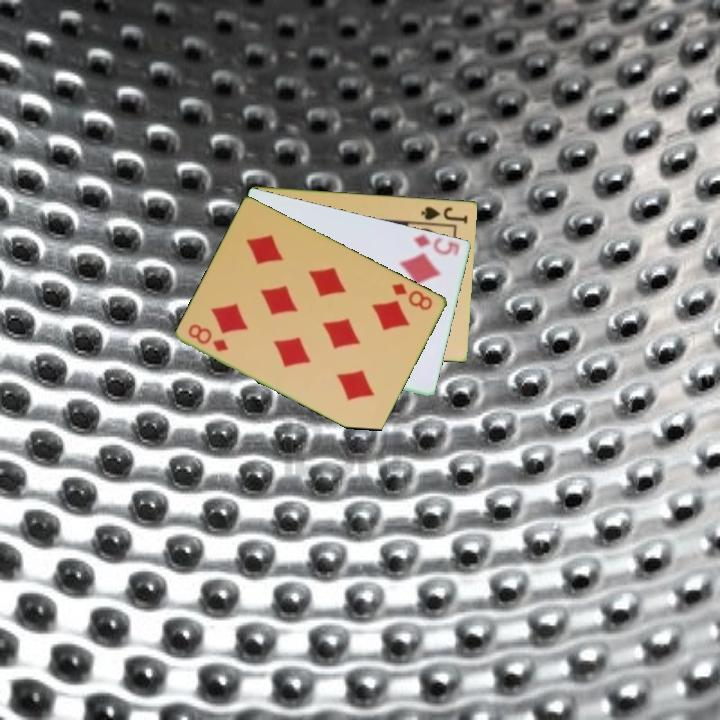5d: (409, 230, 463, 257)
8d: (185, 320, 232, 355), (389, 279, 436, 313)
Js: (418, 202, 471, 226)
